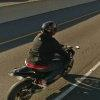Motorcycle: (2, 48, 87, 100)
